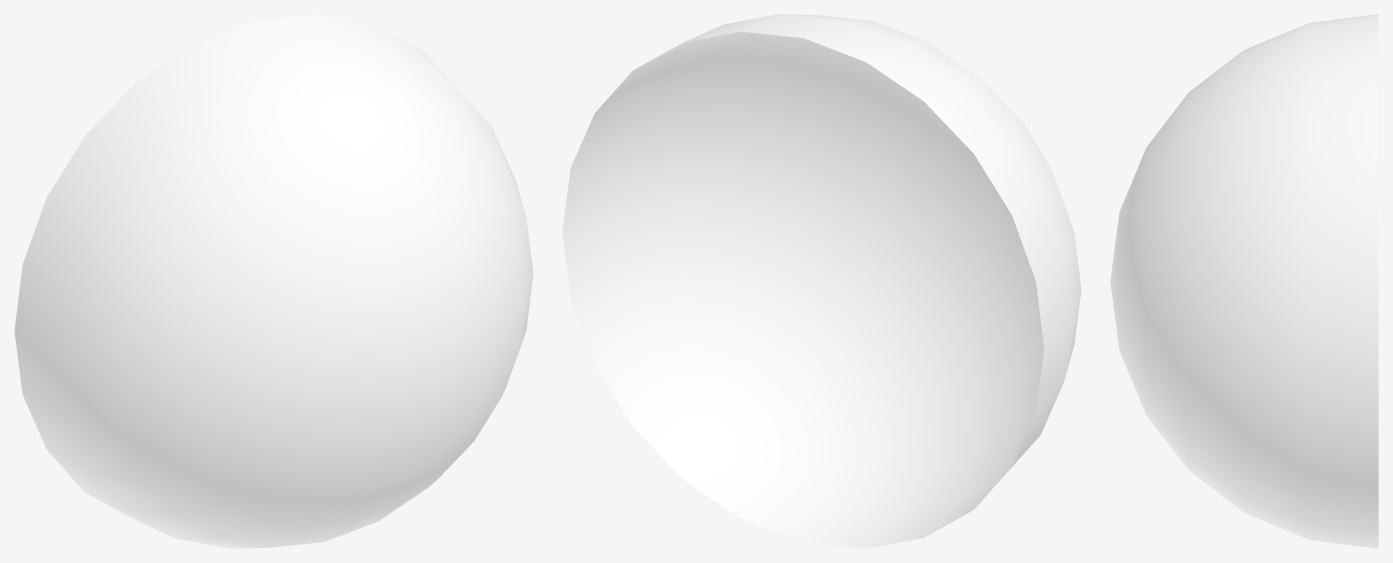
The model's file is si_eos_r300.glb.
The picture shows the model from 3 angles, left to right: view 1: azimuth 30°, elevation 25°; view 2: azimuth 150°, elevation 25°; view 3: azimuth 270°, elevation 25°; orthographic projection. The views are drawn at different scales.
Parts seen in each view (by area): view 1: layer_00_si_est_0900; view 2: layer_00_si_est_0900; view 3: layer_00_si_est_0900.
Boxes of the visible parts, x1,y1,x2,y2 form: layer_00_si_est_0900: (14, 14, 533, 548); layer_00_si_est_0900: (562, 14, 1081, 548); layer_00_si_est_0900: (1110, 14, 1378, 548).
Size of the model in its own units: 100 by 100 by 50.
Materials: 1 (1 with a texture image).
